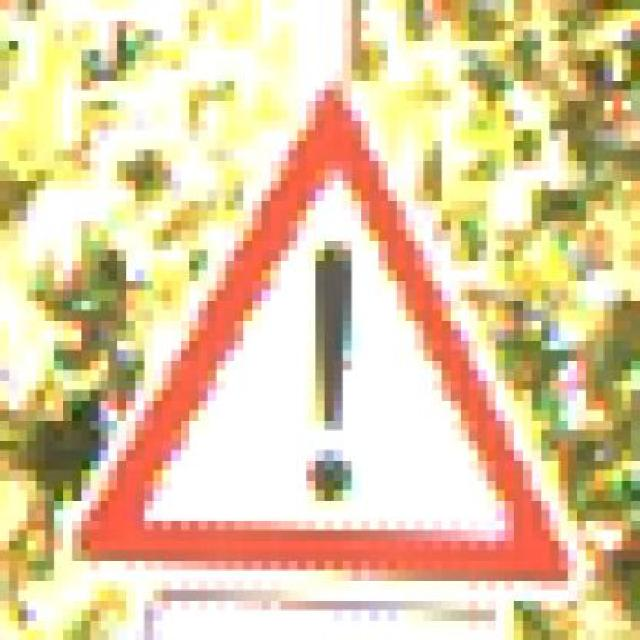Attention Please-: (54, 90, 595, 610)
